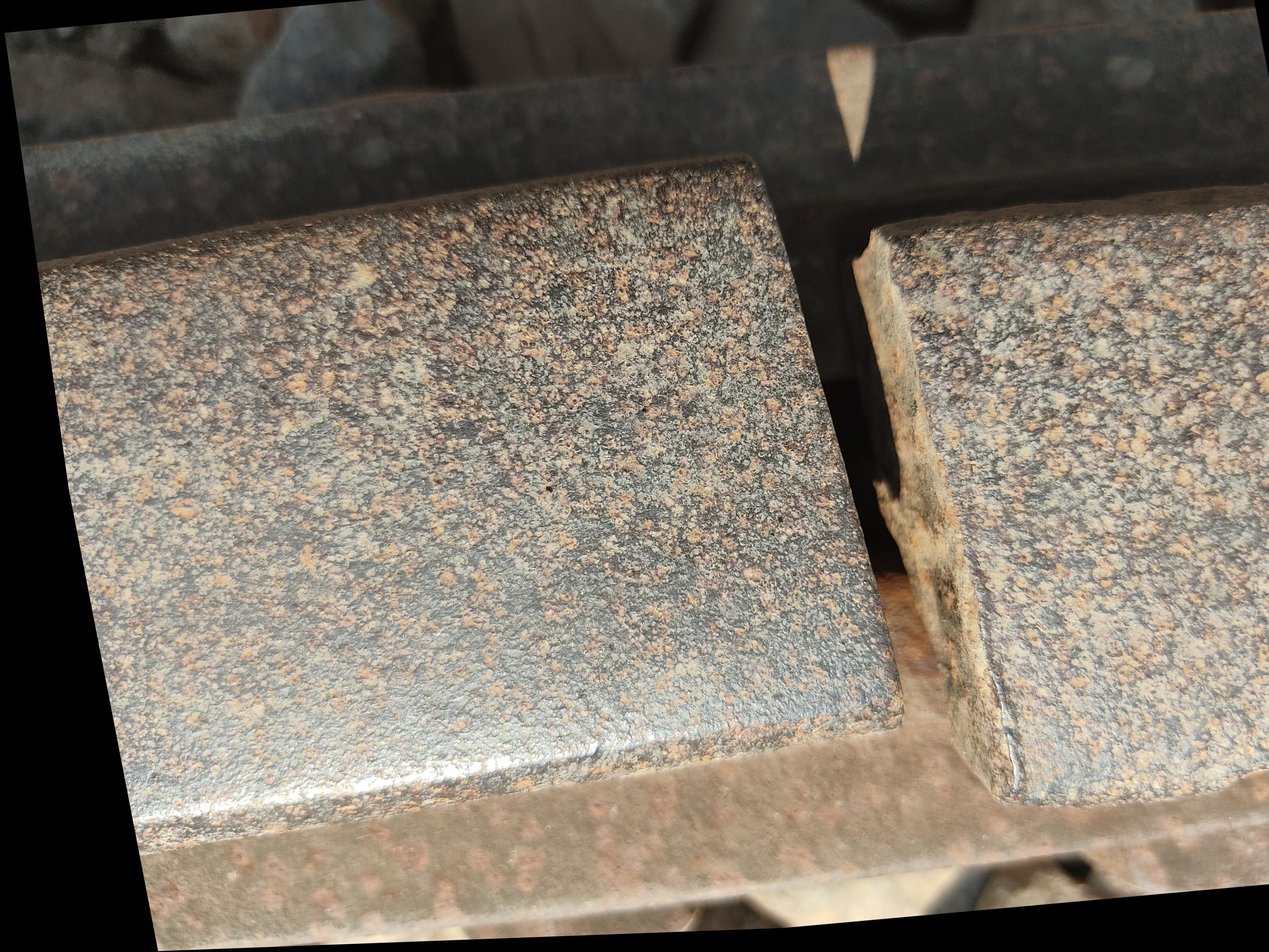person: (306, 503, 694, 945)
